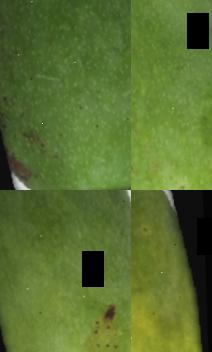PartiallyRipe: (131, 190, 212, 352)
Unripe: (0, 0, 131, 190), (0, 190, 131, 352), (131, 0, 212, 190)
